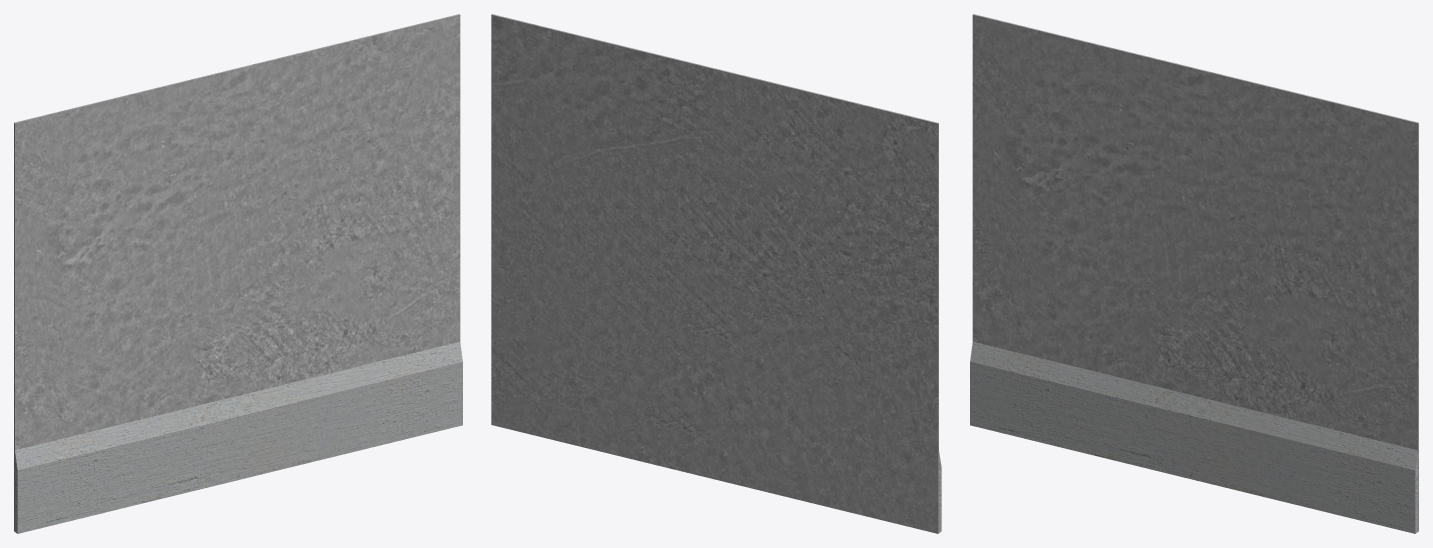
Rendered from Tutorial_Model_Structure_PrisonWall_1.fbx.
3 renders of one model, left to right at view 1: azimuth 30°, elevation 25°; view 2: azimuth 150°, elevation 25°; view 3: azimuth 330°, elevation 25°, orthographic.
Visible parts, largest first — view 1: Wall_1, Low Extruded Wall; view 2: Wall_1; view 3: Wall_1, Low Extruded Wall.
Boxes of the visible parts, x1,y1,x2,y2 form: Wall_1: (14, 14, 460, 531); Low Extruded Wall: (15, 342, 462, 533); Wall_1: (491, 14, 938, 533); Wall_1: (972, 14, 1418, 531); Low Extruded Wall: (970, 342, 1417, 533).
Bounding box in the file's own units: 224 × 197 × 3.11.
Materials: 2 (2 with a texture image).
